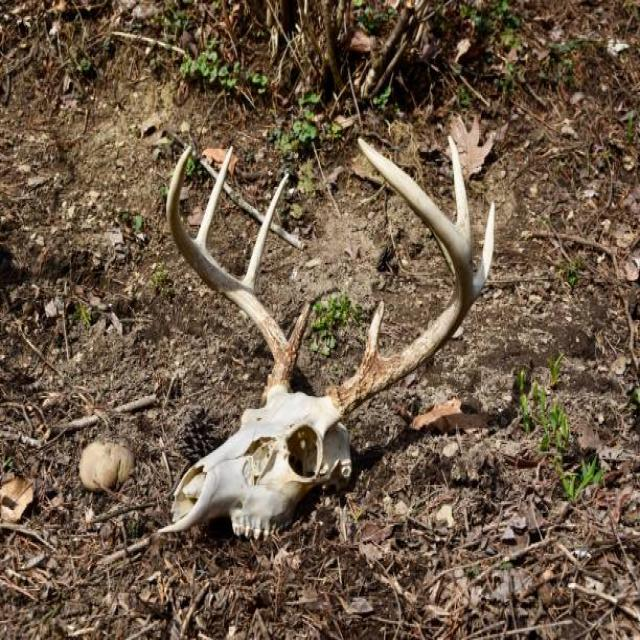L-F: (325, 136, 473, 419)
L-G1: (361, 299, 385, 367)
L-G2: (473, 198, 495, 303)
L-G3: (447, 134, 471, 246)
R-F: (166, 143, 295, 406)
R-G1: (283, 300, 311, 367)
R-G2: (242, 172, 290, 293)
R-G3: (197, 144, 234, 249)
